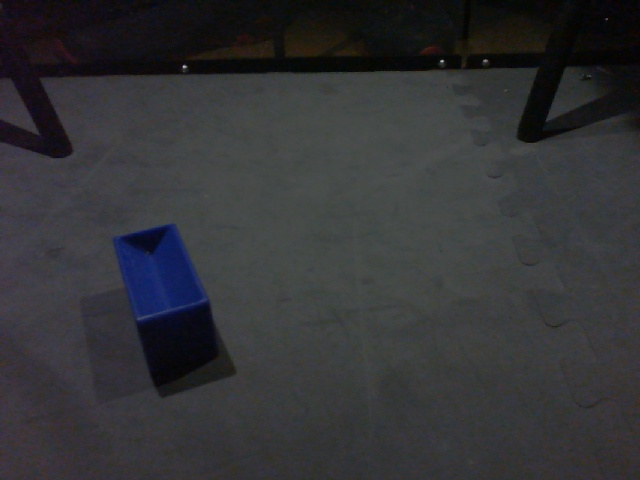BlueSample: (106, 219, 222, 372)
